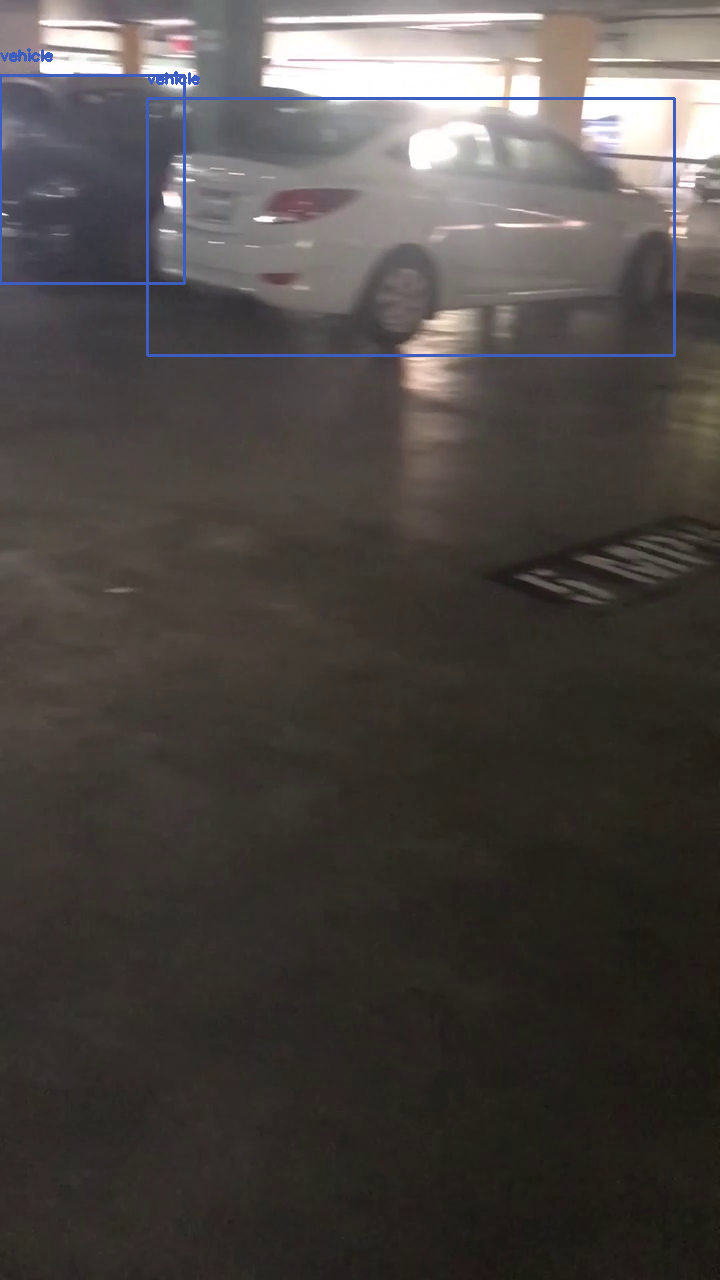vehicle: (147, 98, 674, 355), (0, 75, 184, 283)
